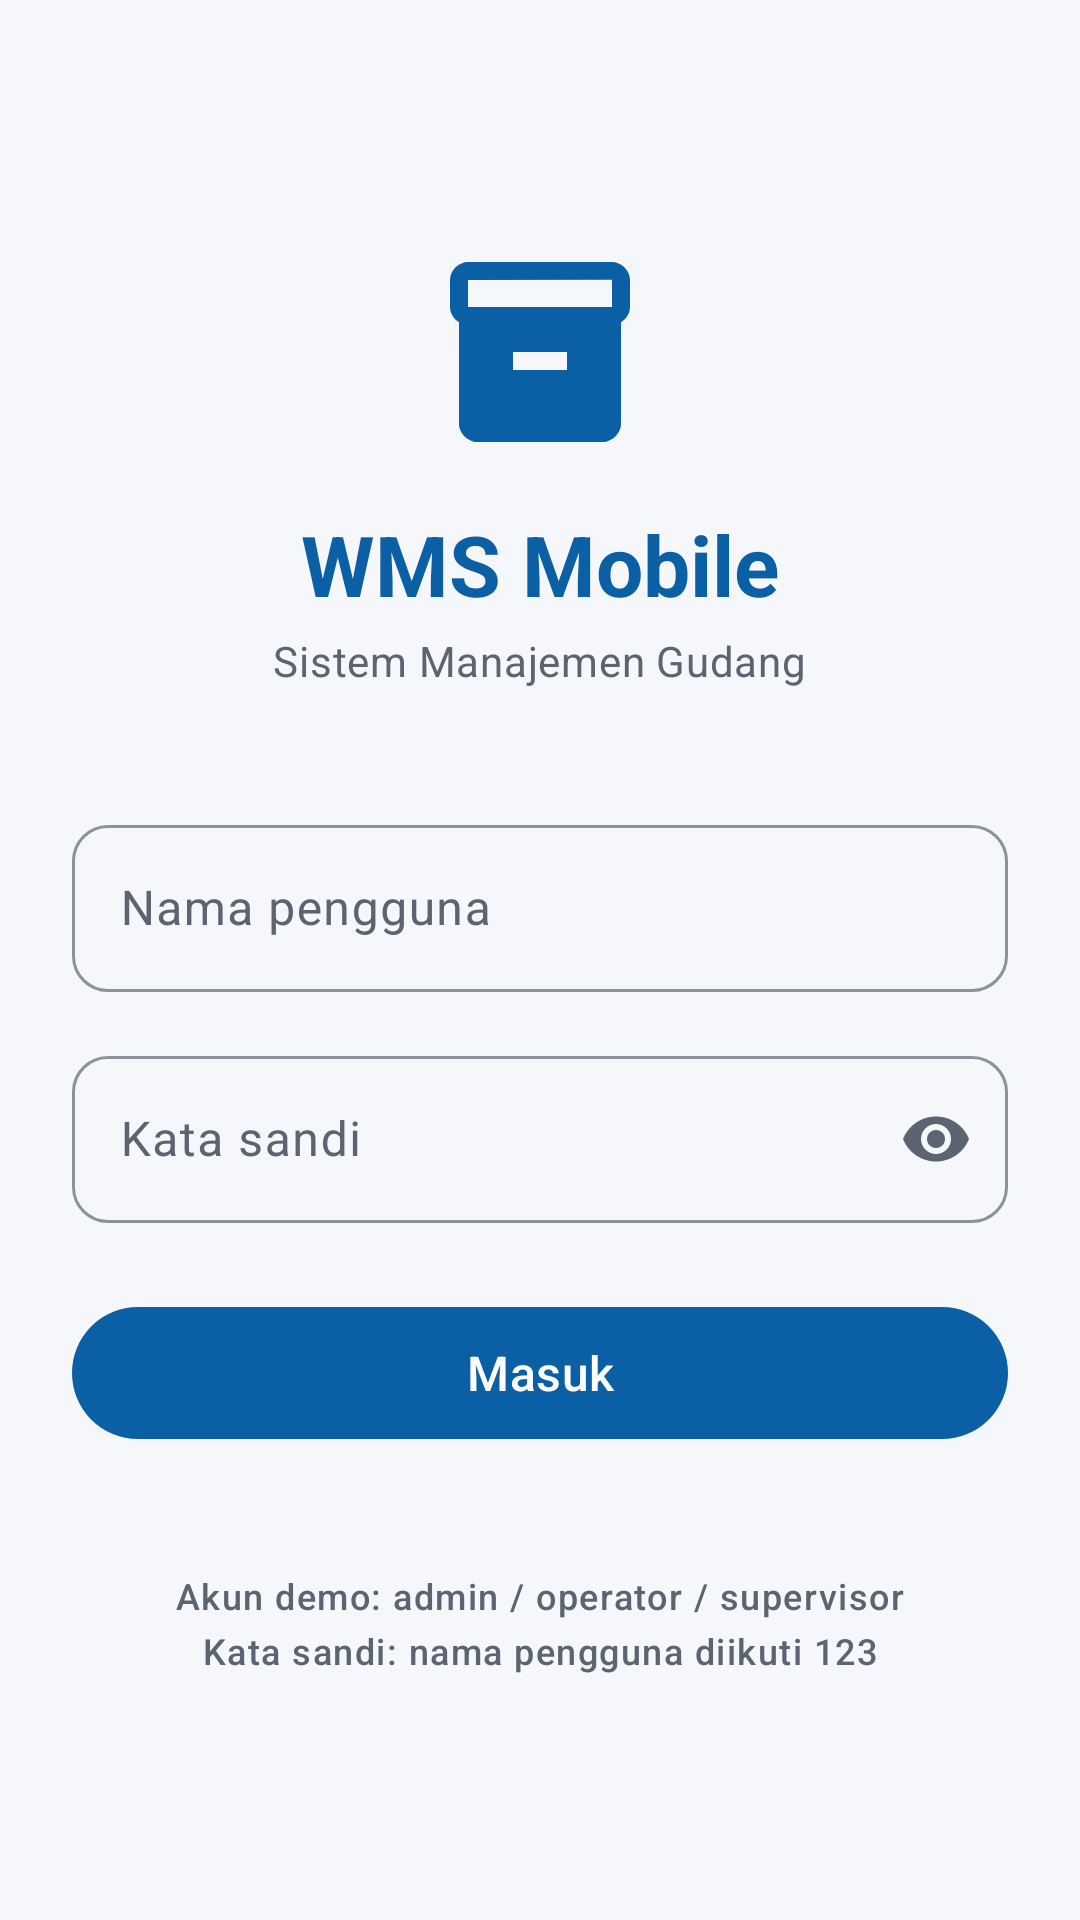

Named icons in this screenshot (1080x1920) and their bounding boxes, {"left": x1, "top": y1, "right": x2, "bottom": y2}:
inventory: {"left": 450, "top": 262, "right": 630, "bottom": 442}
